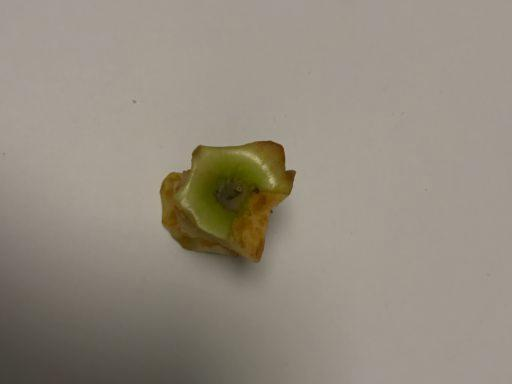trash: (159, 141, 298, 263)
